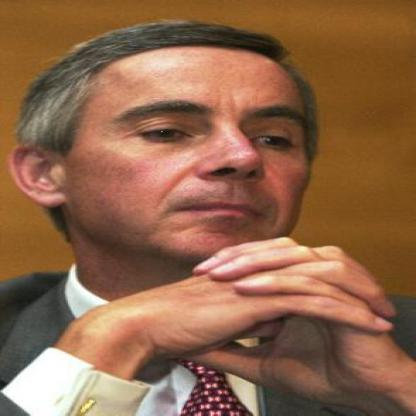face: (55, 28, 330, 268)
